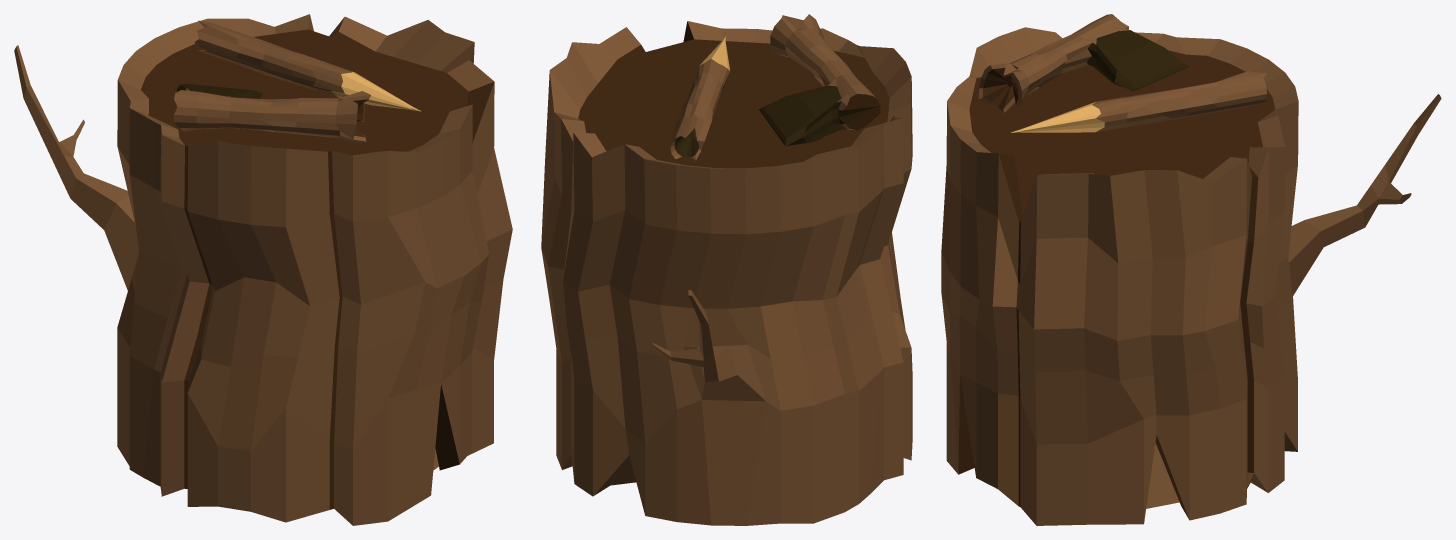
The model's file is Woodbench1.glb.
3 renders of one model, left to right at view 1: azimuth 30°, elevation 25°; view 2: azimuth 150°, elevation 25°; view 3: azimuth 270°, elevation 25°, orthographic. The views are drawn at different scales.
Visible parts, largest first — view 1: Wooden Workbench; view 2: Wooden Workbench; view 3: Wooden Workbench.
Boxes of the visible parts, x1,y1,x2,y2 form: Wooden Workbench: (14, 14, 512, 525); Wooden Workbench: (541, 14, 912, 525); Wooden Workbench: (941, 14, 1441, 525).
Size of the model in its own units: 3.51 by 4.15 by 4.78.
